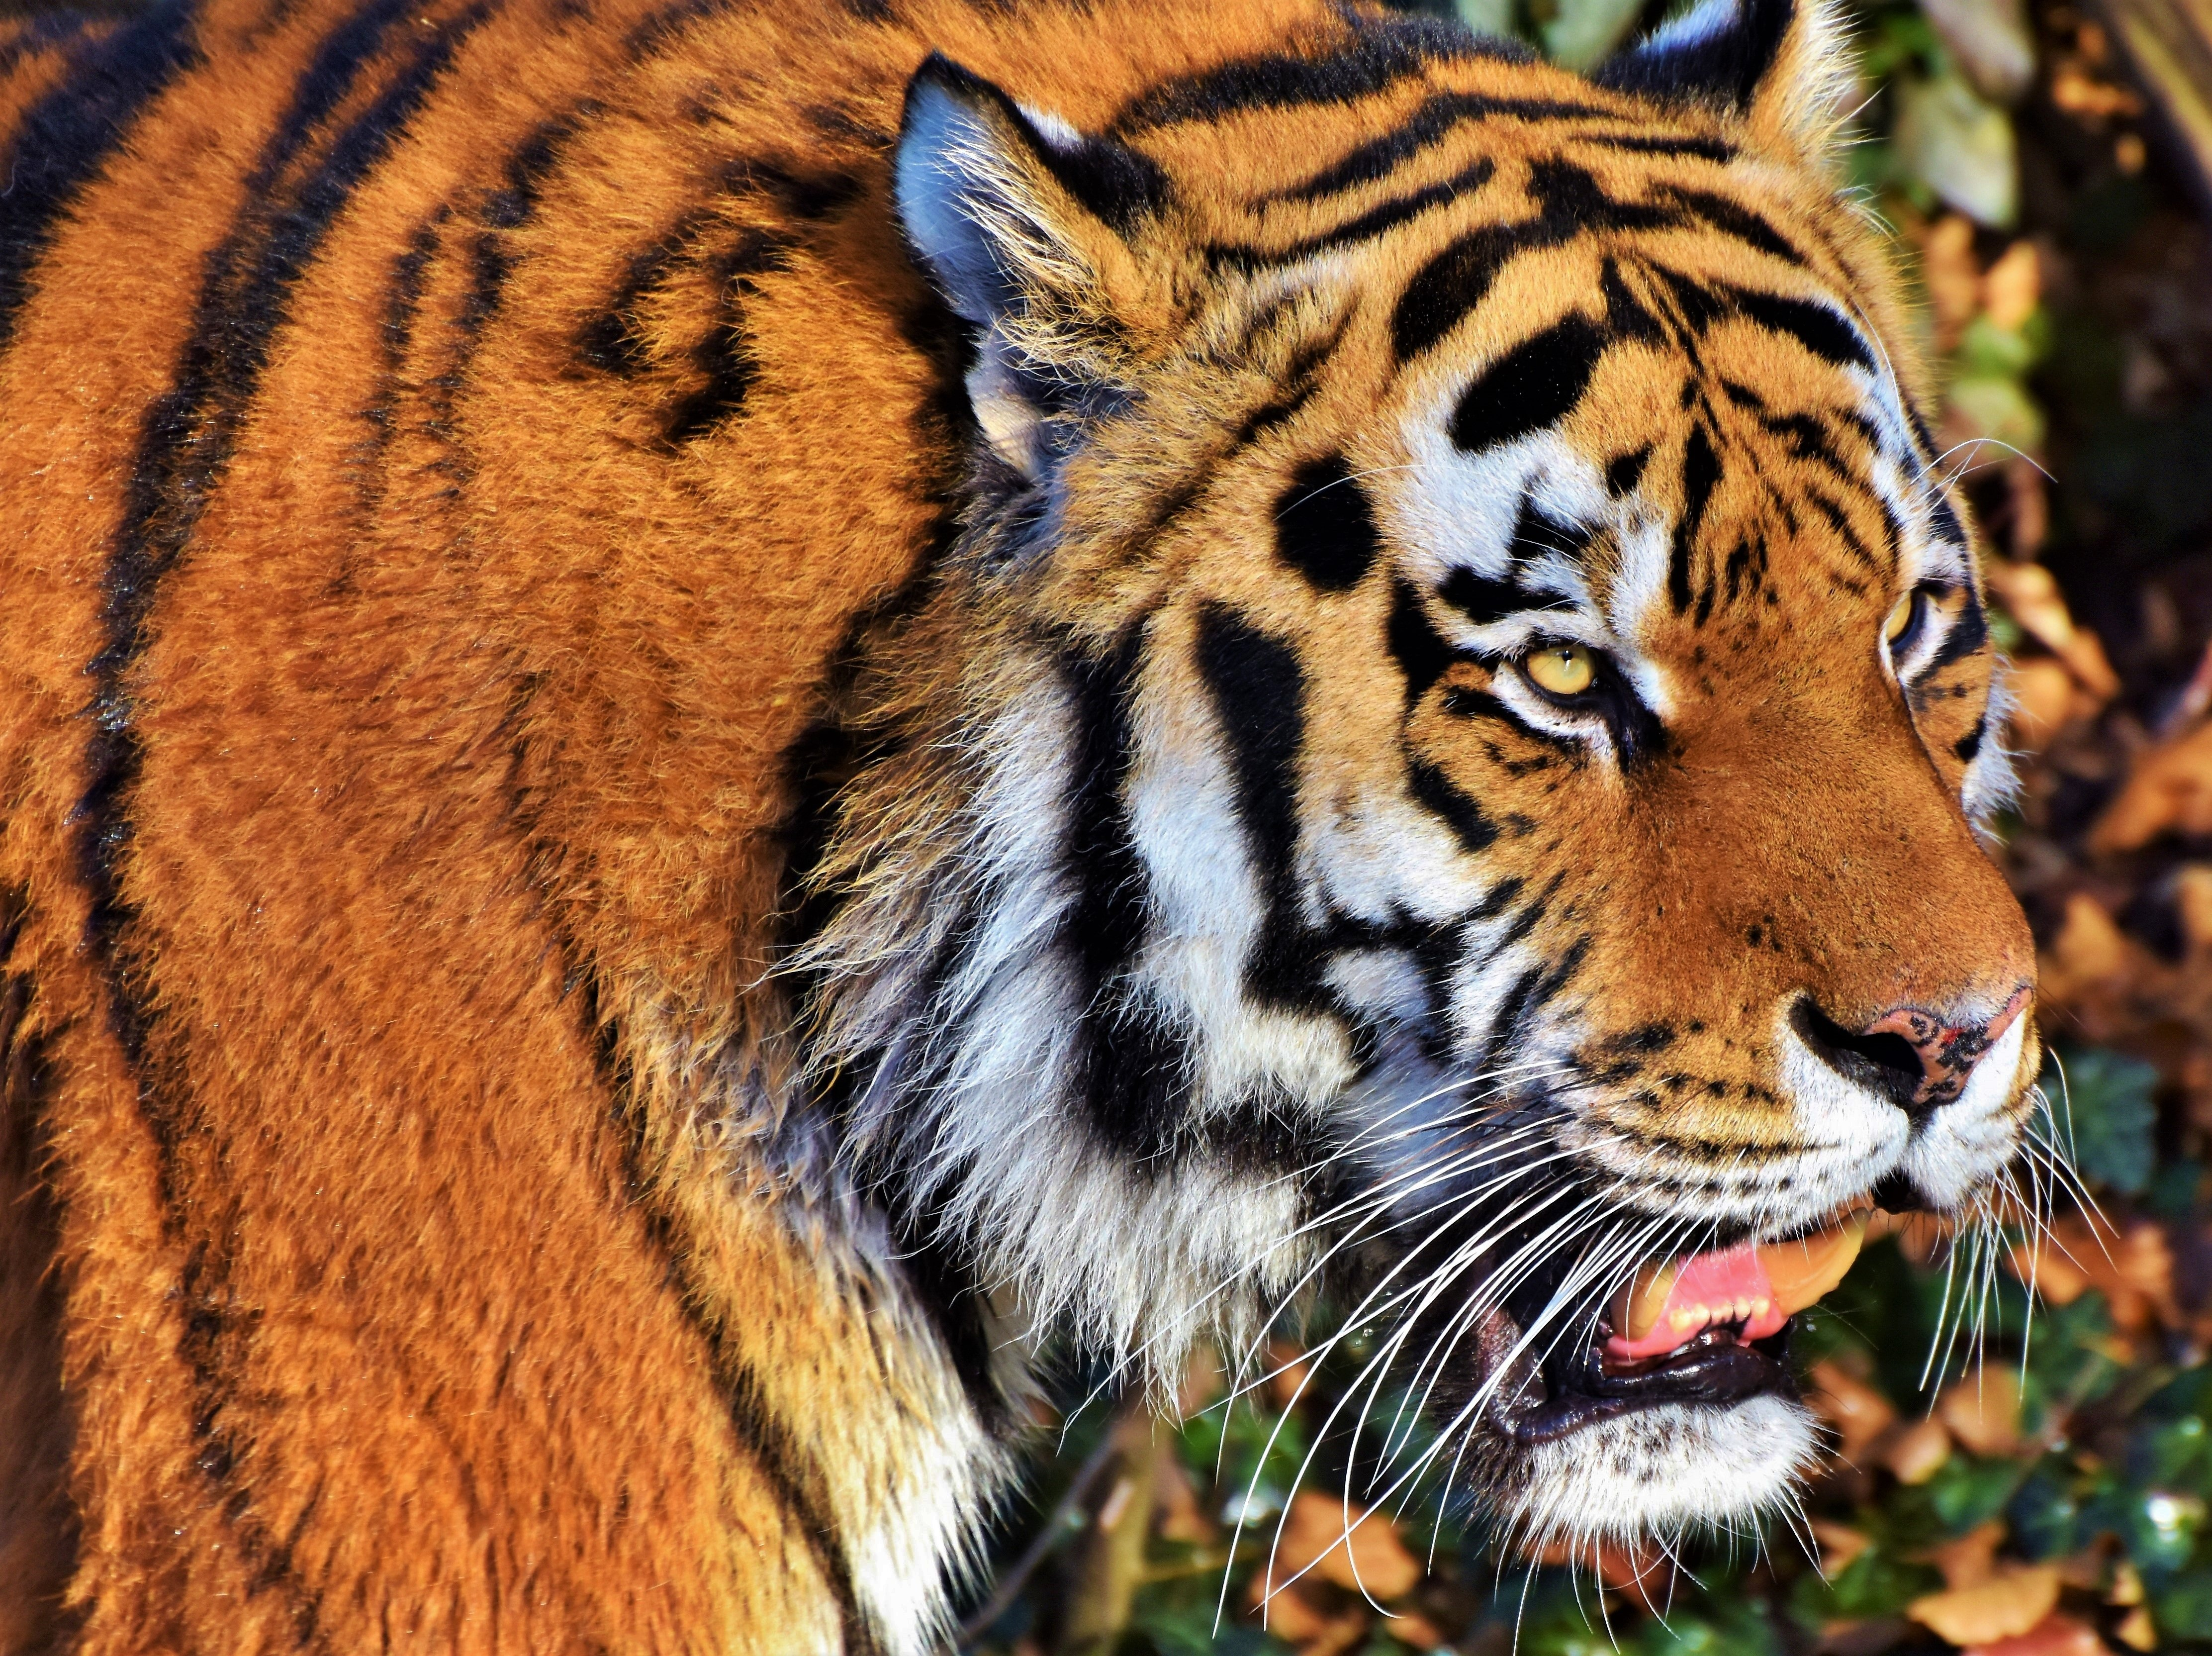tiger: (28, 14, 2078, 1590)
